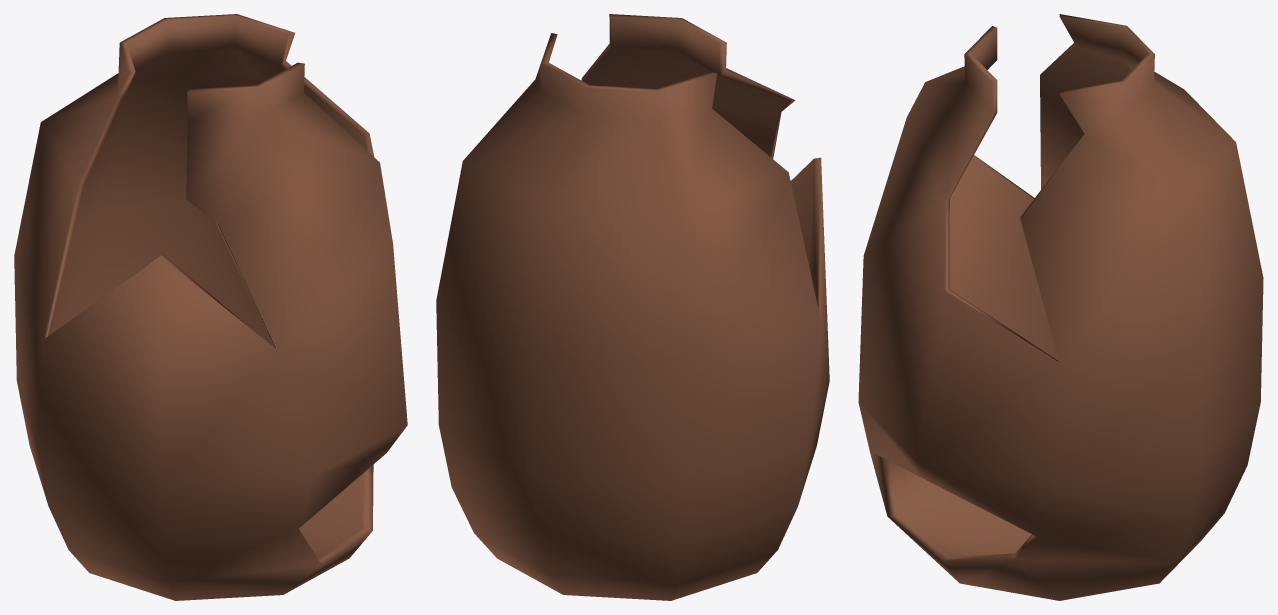
File: Vaso_2_quebrado.fbx
3 renders of one model, left to right at view 1: azimuth 30°, elevation 25°; view 2: azimuth 150°, elevation 25°; view 3: azimuth 270°, elevation 25°, orthographic.
Parts seen in each view (by area): view 1: Vaso_2_quebrado; view 2: Vaso_2_quebrado; view 3: Vaso_2_quebrado.
Part boxes in pixels (x1,y1,x2,y2): Vaso_2_quebrado: (14, 14, 407, 600); Vaso_2_quebrado: (436, 14, 829, 600); Vaso_2_quebrado: (858, 14, 1263, 600).
Bounding box in the file's own units: 0.2759 × 0.2785 × 0.3758.
